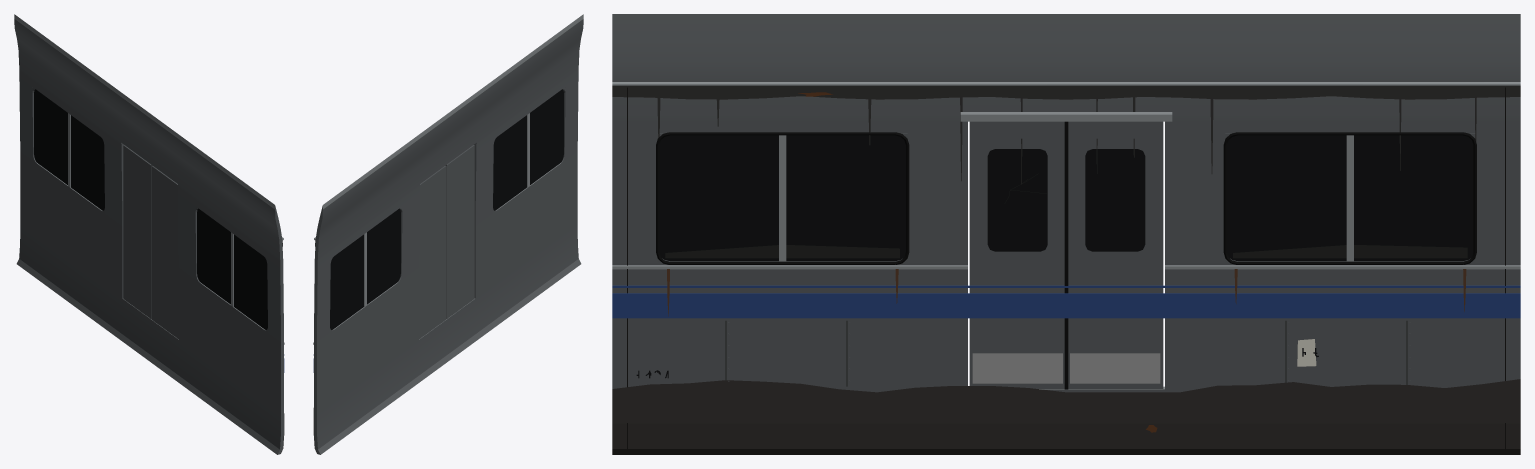
The model's file is metro_dormant_b.glb.
The picture shows the model from 3 angles, left to right: view 1: azimuth 30°, elevation 25°; view 2: azimuth 150°, elevation 25°; view 3: azimuth 270°, elevation 25°; orthographic projection. The views are drawn at different scales.
Visible parts, largest first — view 1: oben, schuerze, unten-3.00, unten0.65, glas-2.7, glas1.1, tuer1, tuer0, pfeiler0.65, pfeiler-1.05, pfeiler-3.00, pfeiler2.70 (+2 smaller); view 2: oben, schuerze, unten0.65, unten-3.00, glas-2.7, glas1.1, tuer0, tuer1, pfeiler-1.05, pfeiler0.65, pfeiler2.70, pfeiler-3.00 (+2 smaller); view 3: oben, bremsstaub, unten-3.00, unten0.65, glas-2.7, glas1.1, streifen, tuer1, tuer0, ablaufschmutz, pfeiler0.65, pfeiler-1.05 (+19 smaller).
Part boxes in pixels (x1,y1,x2,y2): oben: (14, 14, 282, 258); schuerze: (16, 224, 283, 454); unten-3.00: (179, 267, 283, 414); unten0.65: (20, 151, 123, 298); glas-2.7: (197, 208, 267, 329); glas1.1: (34, 89, 104, 210); tuer1: (123, 145, 151, 318); tuer0: (151, 165, 178, 339); pfeiler0.65: (104, 140, 123, 225); pfeiler-1.05: (178, 193, 196, 279); pfeiler-3.00: (267, 259, 283, 341); pfeiler2.70: (19, 77, 33, 160); oben: (315, 14, 583, 258); schuerze: (314, 224, 581, 454); unten0.65: (314, 267, 418, 414); unten-3.00: (474, 151, 577, 298); glas-2.7: (493, 89, 563, 210); glas1.1: (330, 208, 400, 329); tuer0: (446, 145, 474, 318); tuer1: (419, 165, 446, 339); pfeiler-1.05: (474, 140, 493, 225); pfeiler0.65: (401, 193, 419, 279); pfeiler2.70: (314, 259, 330, 341); pfeiler-3.00: (564, 77, 578, 160); oben: (612, 14, 1520, 116); bremsstaub: (612, 379, 1520, 454); unten-3.00: (612, 261, 967, 389); unten0.65: (1165, 261, 1520, 389); glas-2.7: (659, 135, 905, 261); glas1.1: (1227, 135, 1473, 261); streifen: (612, 293, 1520, 318); tuer1: (1068, 121, 1163, 388); tuer0: (969, 121, 1064, 388); ablaufschmutz: (612, 86, 1520, 184); pfeiler0.65: (1165, 133, 1225, 262); pfeiler-1.05: (907, 133, 967, 262).
Size of the model in its own units: 0.1591 by 3.18 by 6.
